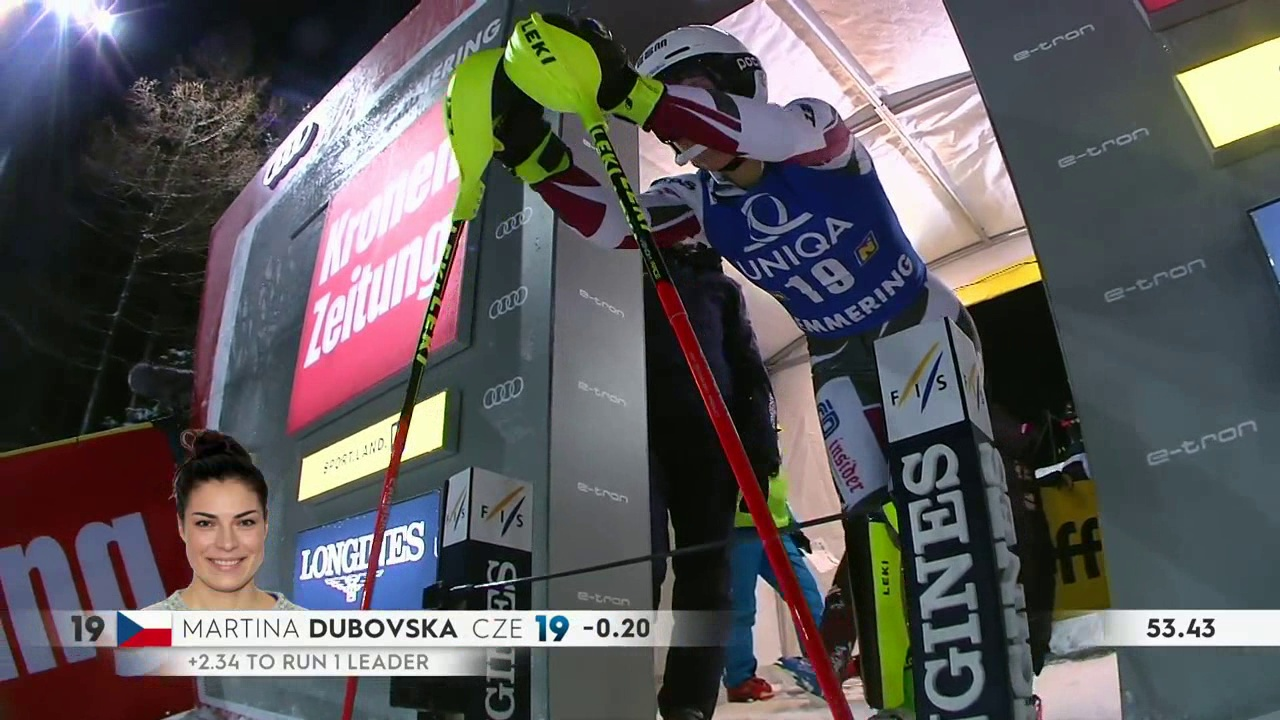audi: (473, 372, 536, 416), (482, 282, 537, 326), (489, 206, 534, 247)
kronenzeitung: (1, 470, 177, 681)
longines: (918, 418, 1010, 717)
uniqa: (729, 185, 842, 285)
